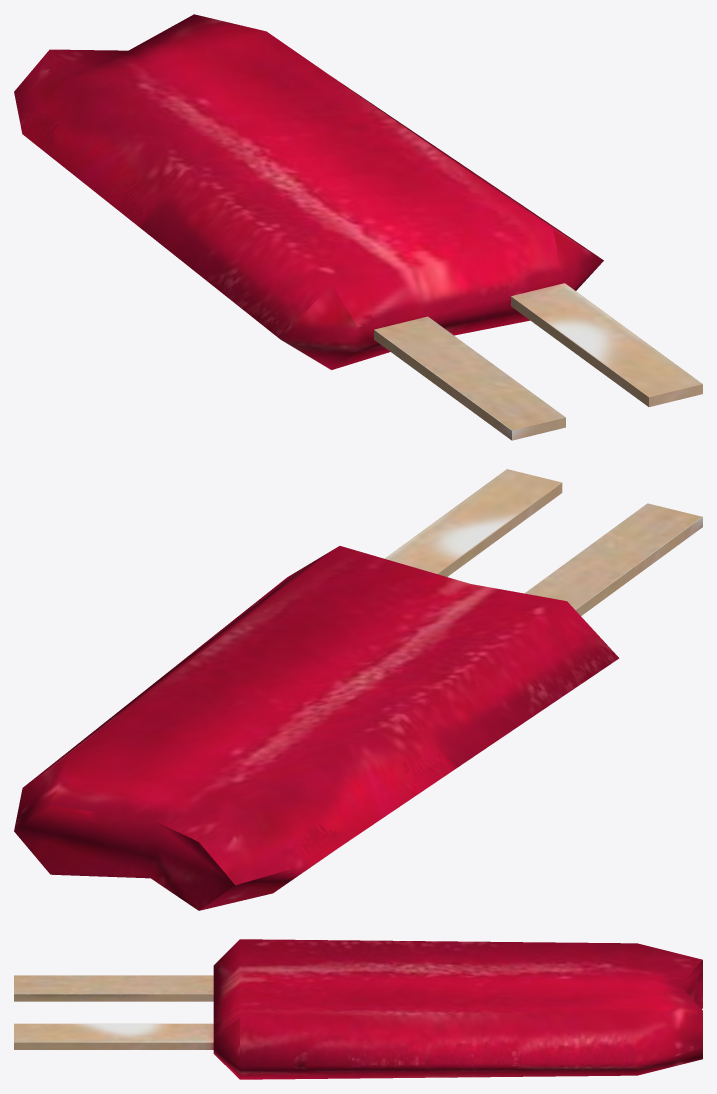
File: Palette-col.glb
The picture shows the model from 3 angles, top to bottom: view 1: azimuth 30°, elevation 25°; view 2: azimuth 150°, elevation 25°; view 3: azimuth 270°, elevation 25°; orthographic projection. The views are drawn at different scales.
Visible parts, largest first — view 1: Palette-col; view 2: Palette-col; view 3: Palette-col.
Part boxes in pixels (x1,y1,x2,y2): Palette-col: (14, 14, 702, 440); Palette-col: (14, 469, 702, 910); Palette-col: (14, 939, 702, 1079).
Bounding box in the file's own units: 0.2309 × 0.0588 × 0.589.
Materials: 1 (1 with a texture image).
